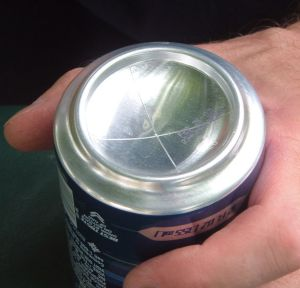can: (53, 33, 267, 288)
